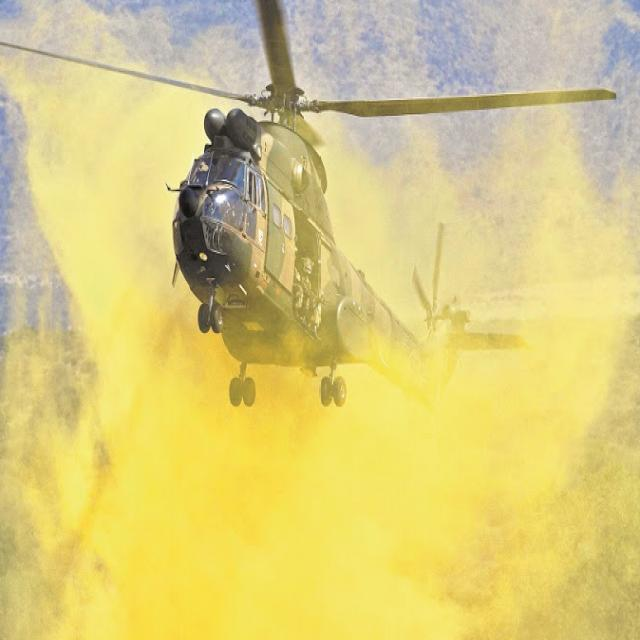helicopter: (52, 1, 631, 424)
